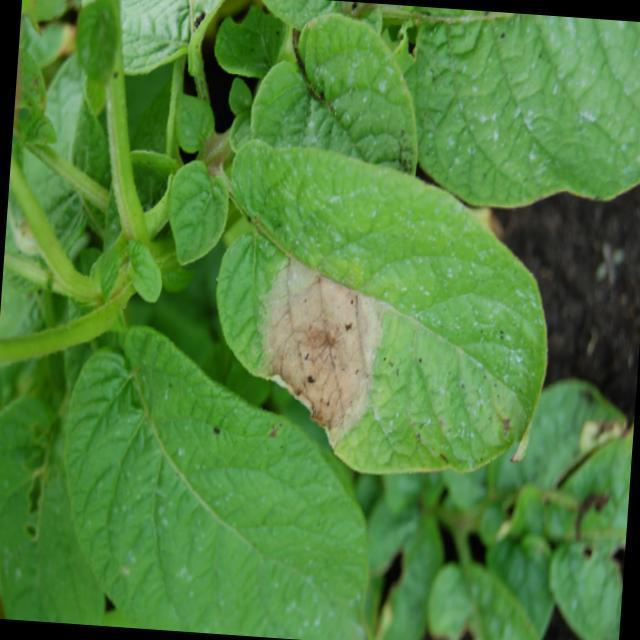Healthy Leaf: (162, 153, 232, 265), (90, 235, 164, 304), (169, 91, 216, 150)
